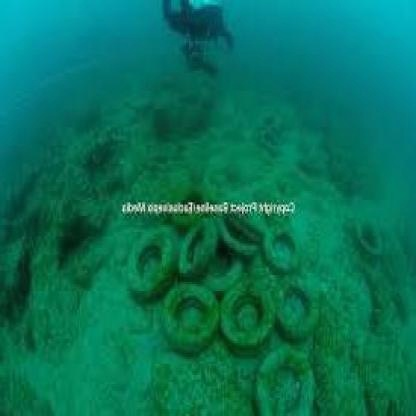tire: (200, 254, 270, 354), (127, 225, 191, 293), (171, 275, 227, 346), (267, 345, 322, 416), (263, 218, 316, 282), (274, 275, 327, 339)
